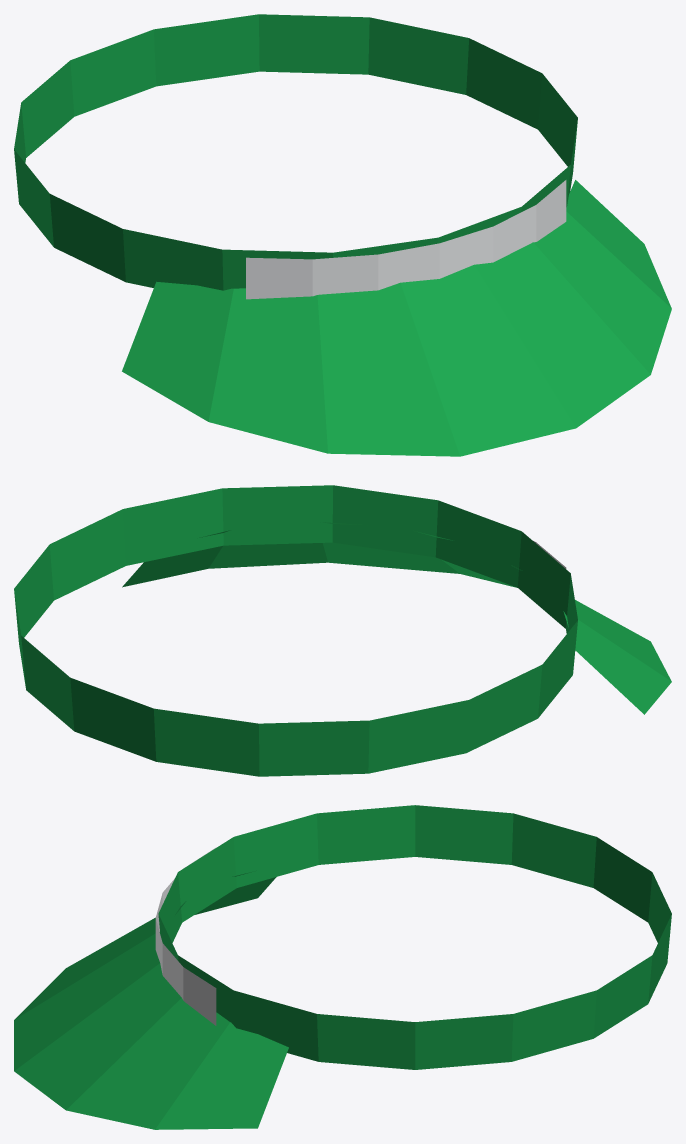
File: hat_08_visor_green.glb
The picture shows the model from 3 angles, top to bottom: view 1: azimuth 30°, elevation 25°; view 2: azimuth 150°, elevation 25°; view 3: azimuth 270°, elevation 25°; orthographic projection. The views are drawn at different scales.
Parts seen in each view (by area): view 1: Hat08_Visor, Hat08_Band, Hat08_WhitePanel; view 2: Hat08_Band, Hat08_Visor; view 3: Hat08_Band, Hat08_Visor, Hat08_WhitePanel.
Part boxes in pixels (x1,y1,x2,y2): Hat08_Visor: [122, 180, 671, 456]; Hat08_Band: [14, 14, 577, 290]; Hat08_WhitePanel: [246, 180, 566, 299]; Hat08_Band: [14, 485, 577, 776]; Hat08_Visor: [122, 522, 671, 714]; Hat08_Band: [158, 805, 671, 1069]; Hat08_Visor: [14, 872, 288, 1129]; Hat08_WhitePanel: [155, 847, 216, 1025].
Size of the model in its own units: 0.5941 by 0.159 by 0.7175.
